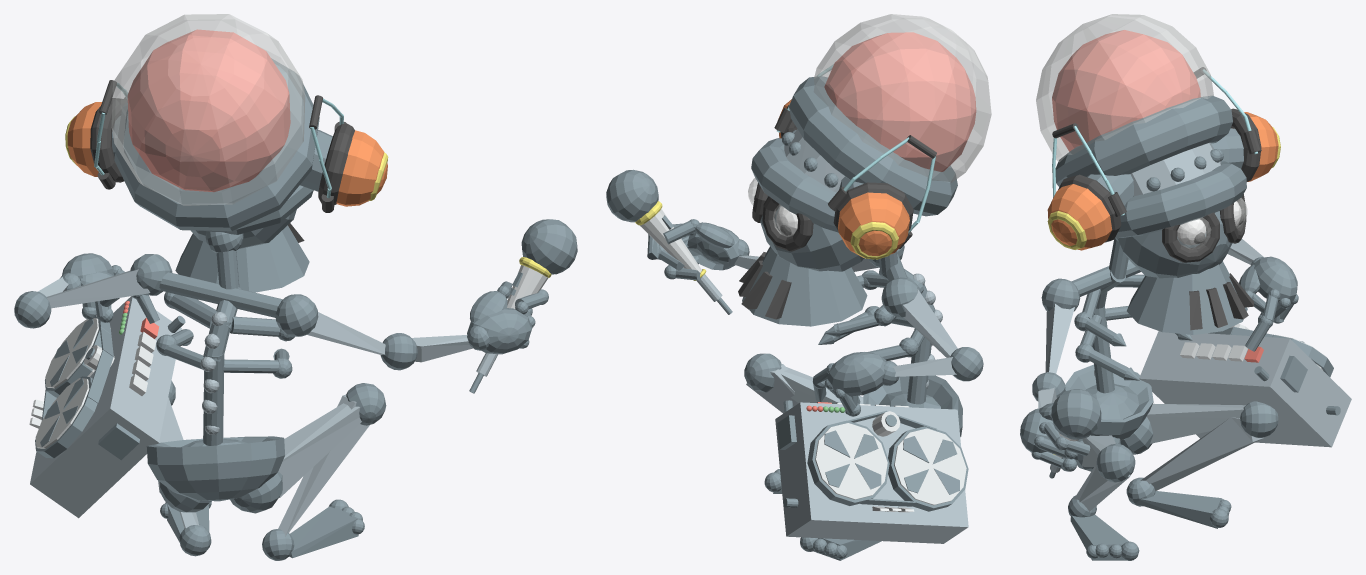
File: robo645.glb
3 views of the same model, side by side, from view 1: azimuth 30°, elevation 25°; view 2: azimuth 150°, elevation 25°; view 3: azimuth 270°, elevation 25° (orthographic). The views are drawn at different scales.
Visible parts, largest first — view 1: group1544096732, group1748895747, group713195968, group403207357, group378909954, group836254335, group1374221804, group972950006; view 2: group1544096732, group1748895747, group713195968, group403207357, group378909954, group1374221804, group836254335, group972950006; view 3: group1544096732, group713195968, group1748895747, group403207357, group1374221804, group836254335, group378909954, group972950006, group111272407.
Boxes of the visible parts, <box> form: group1544096732: <box>14,58,577,560</box>; group1748895747: <box>111,14,305,205</box>; group713195968: <box>30,269,497,536</box>; group403207357: <box>123,29,290,338</box>; group378909954: <box>29,265,548,448</box>; group836254335: <box>67,83,387,206</box>; group1374221804: <box>90,80,354,242</box>; group972950006: <box>65,116,551,277</box>; group1544096732: <box>606,76,983,560</box>; group1748895747: <box>748,14,991,236</box>; group713195968: <box>696,129,968,543</box>; group403207357: <box>806,32,976,411</box>; group378909954: <box>638,209,966,512</box>; group1374221804: <box>738,105,936,319</box>; group836254335: <box>777,64,935,257</box>; group972950006: <box>635,201,898,280</box>; group1544096732: <box>1020,95,1340,560</box>; group713195968: <box>1038,142,1351,511</box>; group1748895747: <box>1036,14,1247,248</box>; group403207357: <box>1052,30,1263,362</box>; group1374221804: <box>1052,67,1261,330</box>; group836254335: <box>1047,69,1278,250</box>; group378909954: <box>1055,324,1325,457</box>; group972950006: <box>1047,127,1280,454</box>; group111272407: <box>1177,201,1241,245</box>.
Size of the model in its own units: 1.71 by 1.84 by 1.14.
